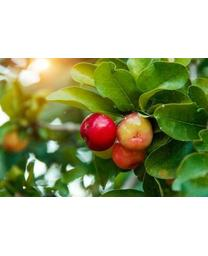cherry: (80, 110, 116, 151), (116, 110, 153, 149), (111, 137, 147, 170)
